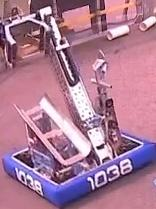blue_number: (85, 156, 134, 193)
